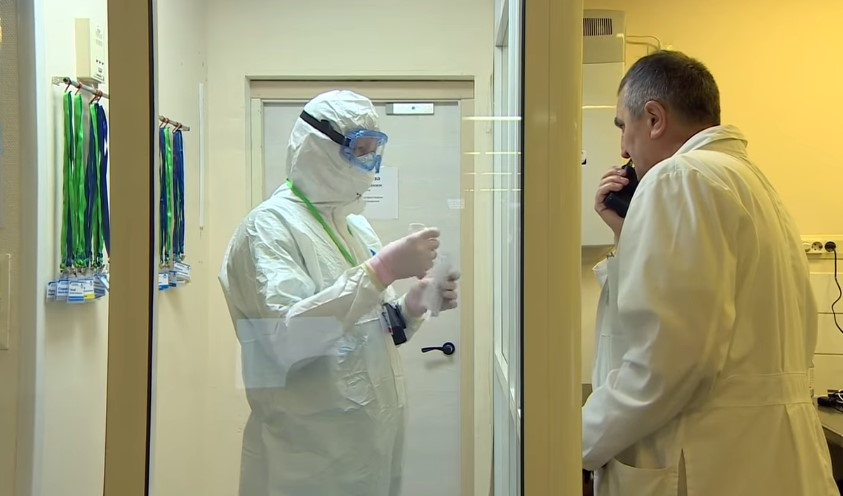face_no_mask: (609, 59, 716, 187)
